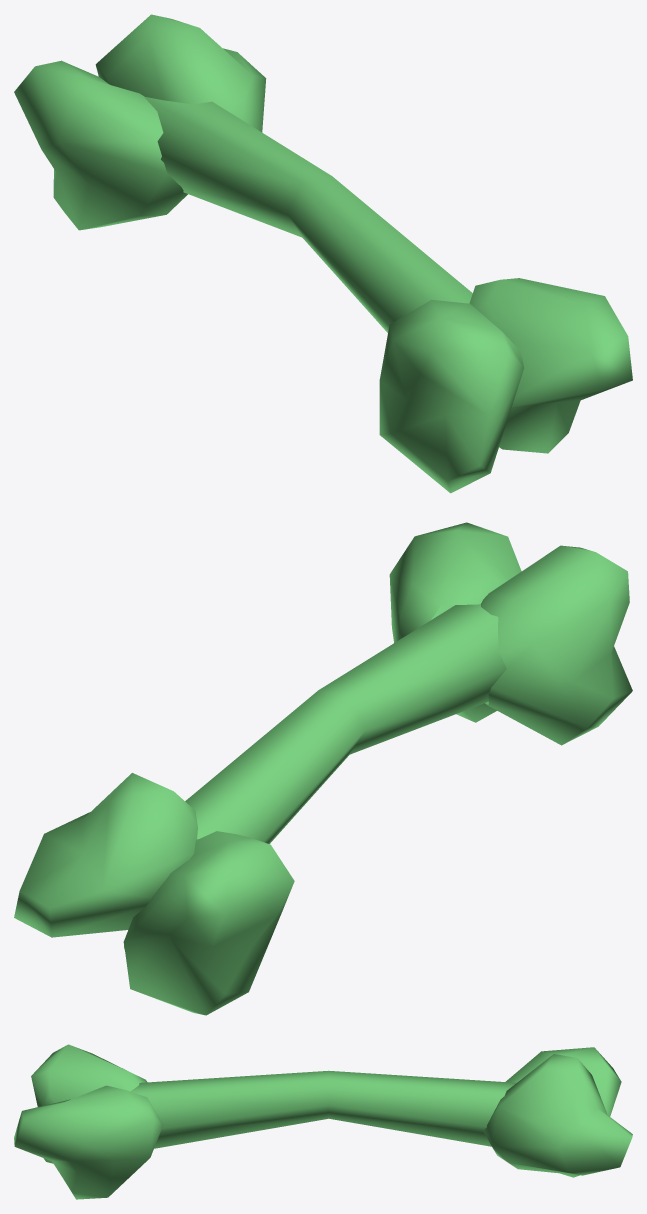
The model's file is Bone02.fbx.
3 renders of one model, top to bottom at view 1: azimuth 30°, elevation 25°; view 2: azimuth 150°, elevation 25°; view 3: azimuth 270°, elevation 25°, orthographic. The views are drawn at different scales.
Visible parts, largest first — view 1: Bone02; view 2: Bone02; view 3: Bone02.
Part boxes in pixels (x1,y1,x2,y2): Bone02: [14, 14, 632, 493]; Bone02: [14, 522, 632, 1015]; Bone02: [14, 1044, 632, 1199].
Size of the model in its own units: 9.25 by 7.56 by 30.78.
